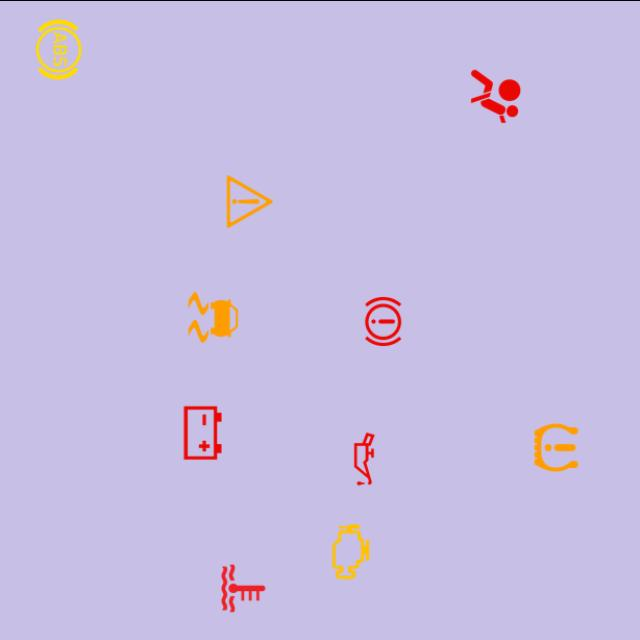Anti Lock Braking System: (26, 15, 92, 81)
Braking System Issue: (350, 287, 416, 353)
Charging System Issue: (170, 399, 236, 465)
Check Engine: (317, 518, 383, 584)
Electronic Stability Problem -ESP-: (180, 284, 246, 349)
Engine Overheating Warning Light: (210, 554, 276, 620)
Low Engine Oil Warning Light: (332, 425, 398, 491)
Low Tire Pressure Warning Light: (523, 414, 589, 479)
Master warning light: (216, 168, 282, 234)
SRS-Airbag: (462, 63, 528, 128)
